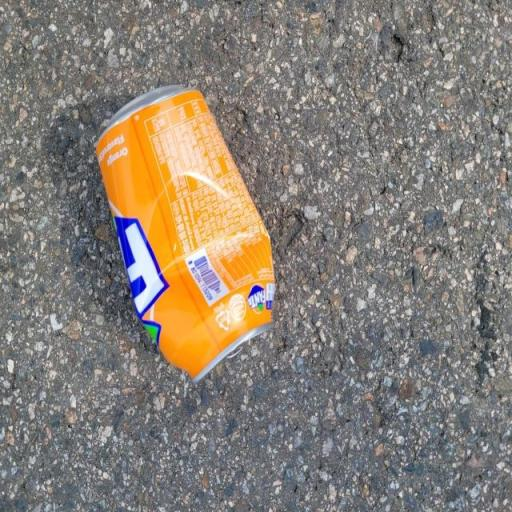metal: (78, 76, 323, 432)
